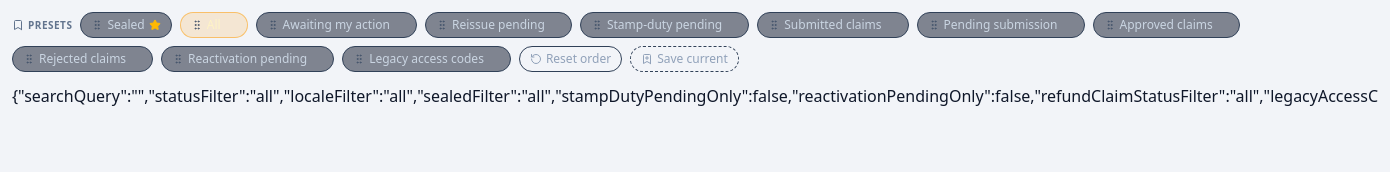
Scenario: CaseFilterPresets › reset button clears order and pinned from localStorage and re-renders in default order
Click the button with test id "preset-reset-layout" at (571, 59), box [519,46,622,72]
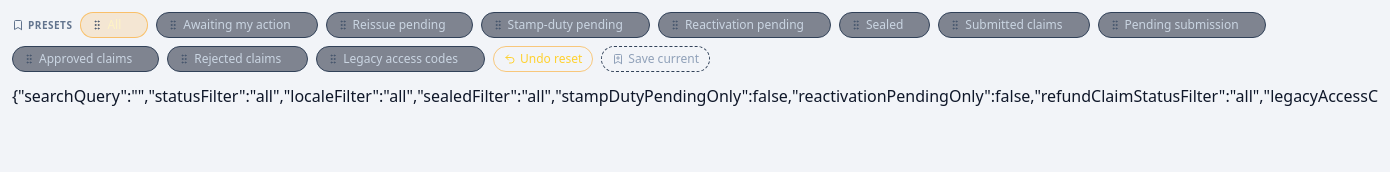
Expected: the button with test id "preset-reset-layout" is gone
